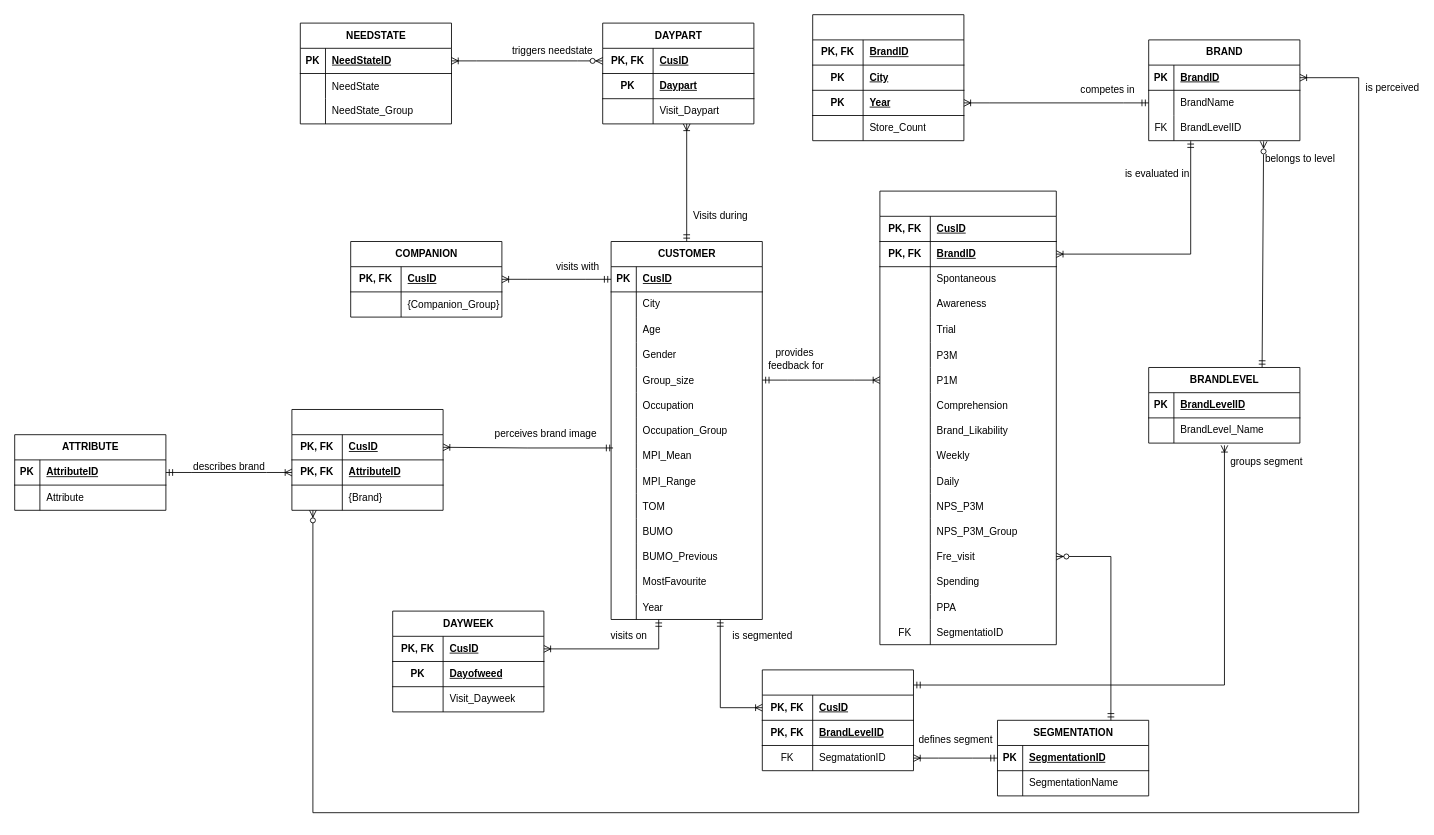
This 1434x835 diagram has some shape labels left out. The shapes that lost their labels are listed below. From the top down, each one's box as (x1, y1, x2, y2) in pixels, then its label:
(812, 14, 964, 141): COMPETITOR
(879, 190, 1056, 645): BRAND_HEALTH
(291, 409, 443, 510): BRAND_IMAGE
(761, 669, 914, 771): CUS_BRANDLEVEL_SEG
